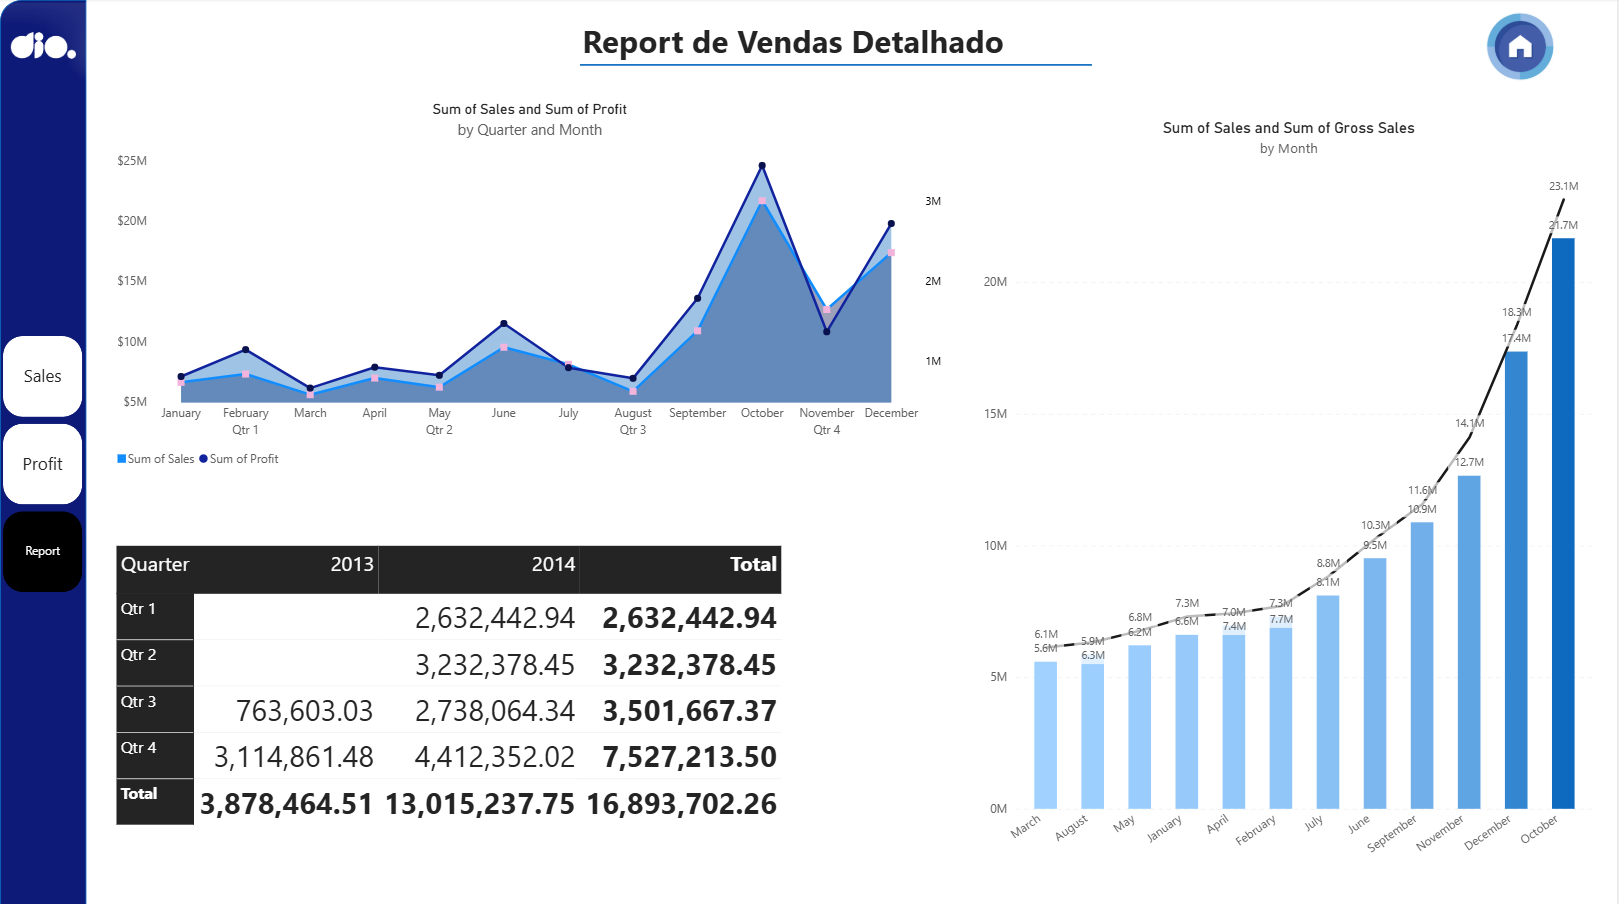

What the dashboard file says about the page in this screenshot:
{"tool":"powerbi","page":{"name":"Report","canvas":[1920,1080],"ordinal":2},"visuals":[{"type":"lineClusteredColumnComboChart","fields":{"Category":["financials.Date.Variation.Date Hierarchy.Month"],"Y":["Sum(financials.Sales)"],"Y2":["Sum(financials.Gross Sales)"]},"box":[1151.2,128.8,757,919.9],"z":0},{"type":"areaChart","fields":{"Category":["financials.Date.Variation.Date Hierarchy.Quarter","financials.Date.Variation.Date Hierarchy.Month"],"Y":["Sum(financials.Sales)"],"Y2":["Sum(financials.Profit)"]},"box":[122.2,107.8,1013.2,469.2],"z":1000},{"type":"textbox","box":[566.4,25,750.4,53.9],"z":2000},{"type":"shape","box":[688.5,63,607.5,33],"z":3000},{"type":"shape","box":[0,2.6,102.5,1077.6],"z":4000},{"type":"image","title":"logo_dio","box":[0,2.5,102.5,107.8],"z":6000},{"type":"pivotTable","fields":{"Columns":["financials.Date.Variation.Date Hierarchy.Year"],"Rows":["financials.Date.Variation.Date Hierarchy.Quarter"],"Values":["Sum(financials.Profit)"]},"box":[122.2,636.1,887.1,385.1],"z":7000},{"type":"image","box":[1755,3,97.5,108],"z":8000},{"type":"actionButton","box":[1741.5,12,130.5,99],"z":9000},{"type":"pageNavigator","box":[3.3,400.6,94.8,304.2],"z":10001}]}

Visuals, with their boxes in screenshot pixels (x1, y1, x2, y2), scaled from the page's 1920x1080 canvas onto the 1619x904 screenshot:
lineClusteredColumnComboChart - financials.Date.Variation.Date Hierarchy.Month x Sum(financials.Sales): box(971, 108, 1609, 878)
areaChart - financials.Date.Variation.Date Hierarchy.Quarter x financials.Date.Variation.Date Hierarchy.Month: box(103, 90, 957, 483)
textbox: box(478, 21, 1110, 66)
shape: box(581, 53, 1093, 80)
shape: box(0, 2, 86, 903)
"logo_dio" image: box(0, 2, 86, 92)
pivotTable - financials.Date.Variation.Date Hierarchy.Year x financials.Date.Variation.Date Hierarchy.Quarter: box(103, 532, 851, 855)
image: box(1480, 3, 1562, 93)
actionButton: box(1468, 10, 1579, 93)
pageNavigator: box(3, 335, 83, 590)
